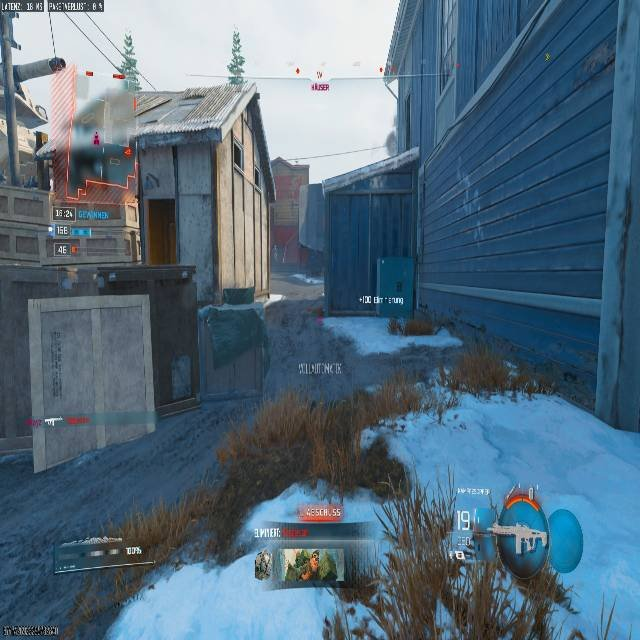head: (490, 497, 550, 575)
player: (443, 495, 582, 615)
